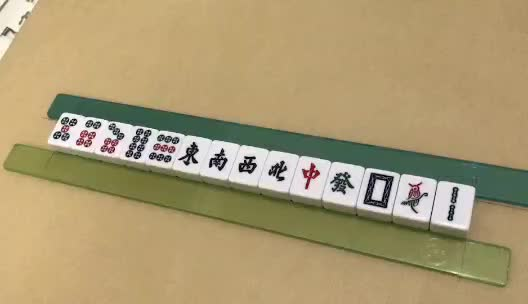1s: (404, 180, 428, 211)
1z: (182, 141, 200, 164)
2s: (448, 185, 460, 224)
2z: (208, 146, 227, 174)
3z: (237, 154, 258, 175)
4z: (269, 160, 286, 181)
5p: (52, 116, 77, 143)
5z: (364, 175, 392, 210)
6p: (77, 120, 101, 150)
6z: (330, 170, 355, 198)
7p: (101, 123, 123, 156)
7z: (300, 165, 320, 190)
8p: (125, 127, 150, 160)
9p: (151, 136, 179, 163)
